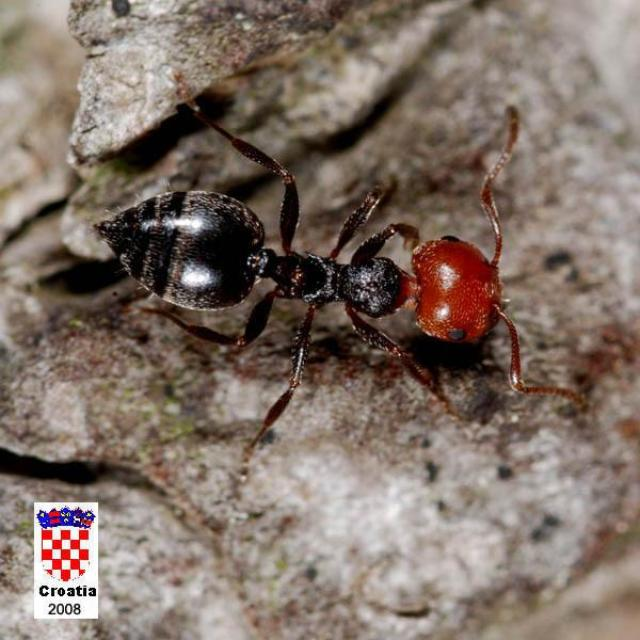Crematogaster: (93, 143, 533, 385)
